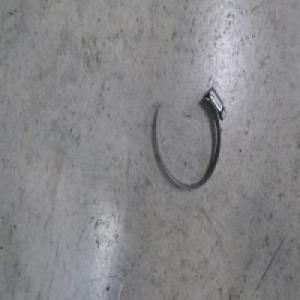AdjustableClamp: (152, 85, 227, 194)
